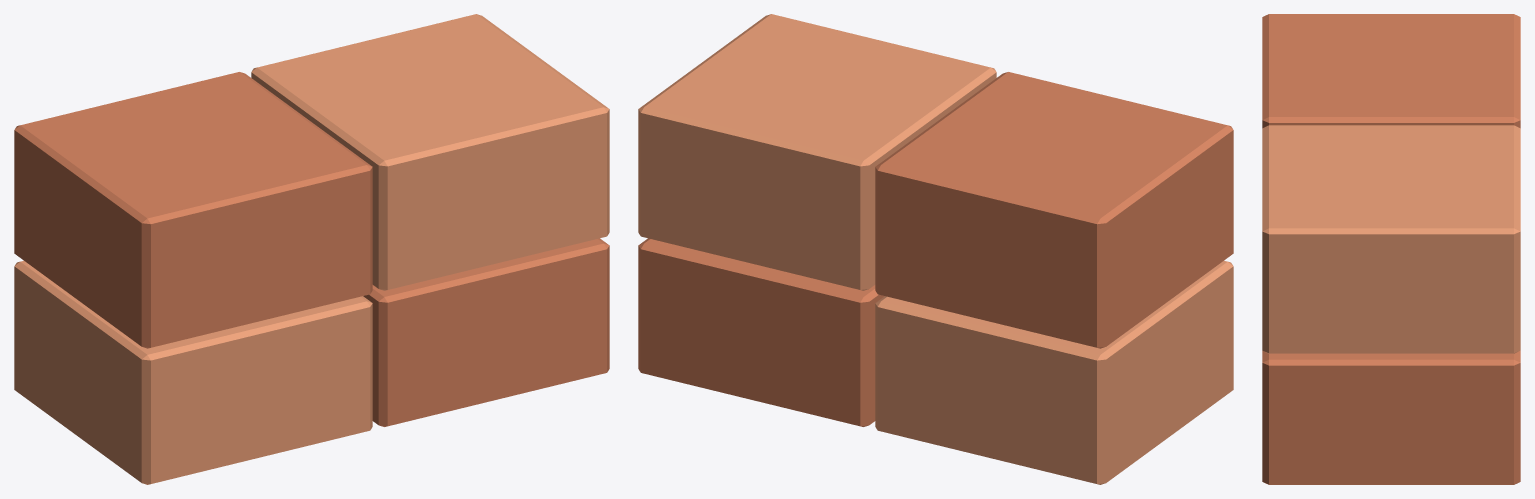
File: wall_terracotta_2m.glb
3 views of the same model, side by side, from view 1: azimuth 30°, elevation 25°; view 2: azimuth 150°, elevation 25°; view 3: azimuth 270°, elevation 25° (orthographic). The views are drawn at different scales.
Visible parts, largest first — view 1: Clay brick.006, Clay brick.007, Clay brick.004, Clay brick.005; view 2: Clay brick.006, Clay brick.007, Clay brick.004, Clay brick.005; view 3: Clay brick.007, Clay brick.005, Clay brick.006.
Boxes of the visible parts, x1,y1,x2,y2 form: Clay brick.006: [14, 72, 372, 348]; Clay brick.007: [251, 14, 609, 290]; Clay brick.004: [14, 261, 372, 484]; Clay brick.005: [363, 238, 609, 426]; Clay brick.006: [875, 72, 1233, 348]; Clay brick.007: [638, 14, 996, 290]; Clay brick.004: [875, 261, 1233, 484]; Clay brick.005: [638, 238, 884, 426]; Clay brick.007: [1262, 125, 1520, 353]; Clay brick.005: [1262, 350, 1520, 484]; Clay brick.006: [1262, 14, 1520, 128].
Size of the model in its own units: 1.98 by 1.07 by 0.98.
